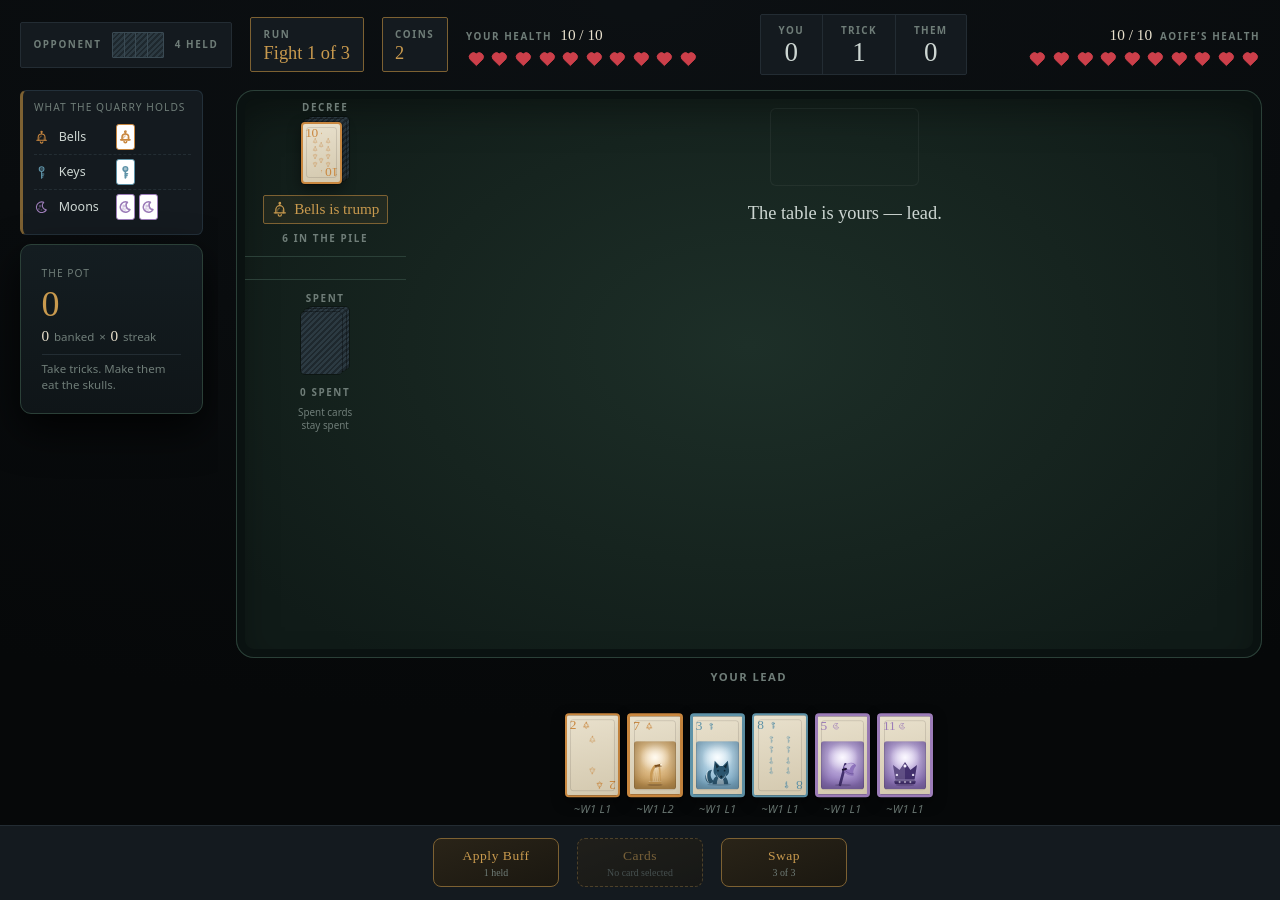
Scenario: WarCouncilRound — buff ride wiring (DLR-153 Task 15) › switches the breakdown to a second, differently-lit legal card on hover (AC13/AC14)
The width and height of the screenshot is (1280, 900).
Step 1. Click the button "Apply Buff 1 held" → x=496, y=863, box [433, 838, 559, 887]
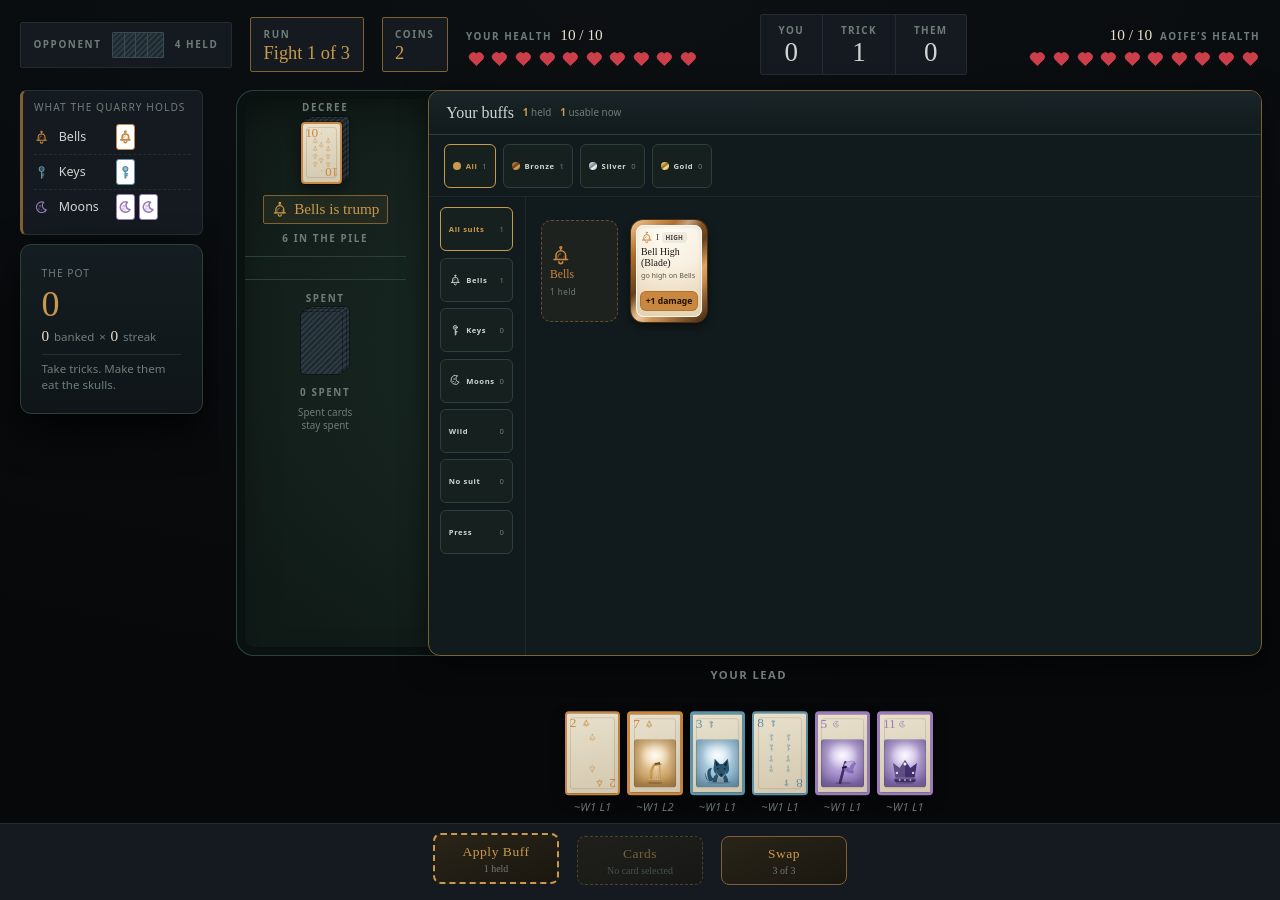
Step 2. Click the button "I HIGH Bell High (Blade) go high on Bells +1 damage" → x=669, y=271, box [631, 220, 707, 322]
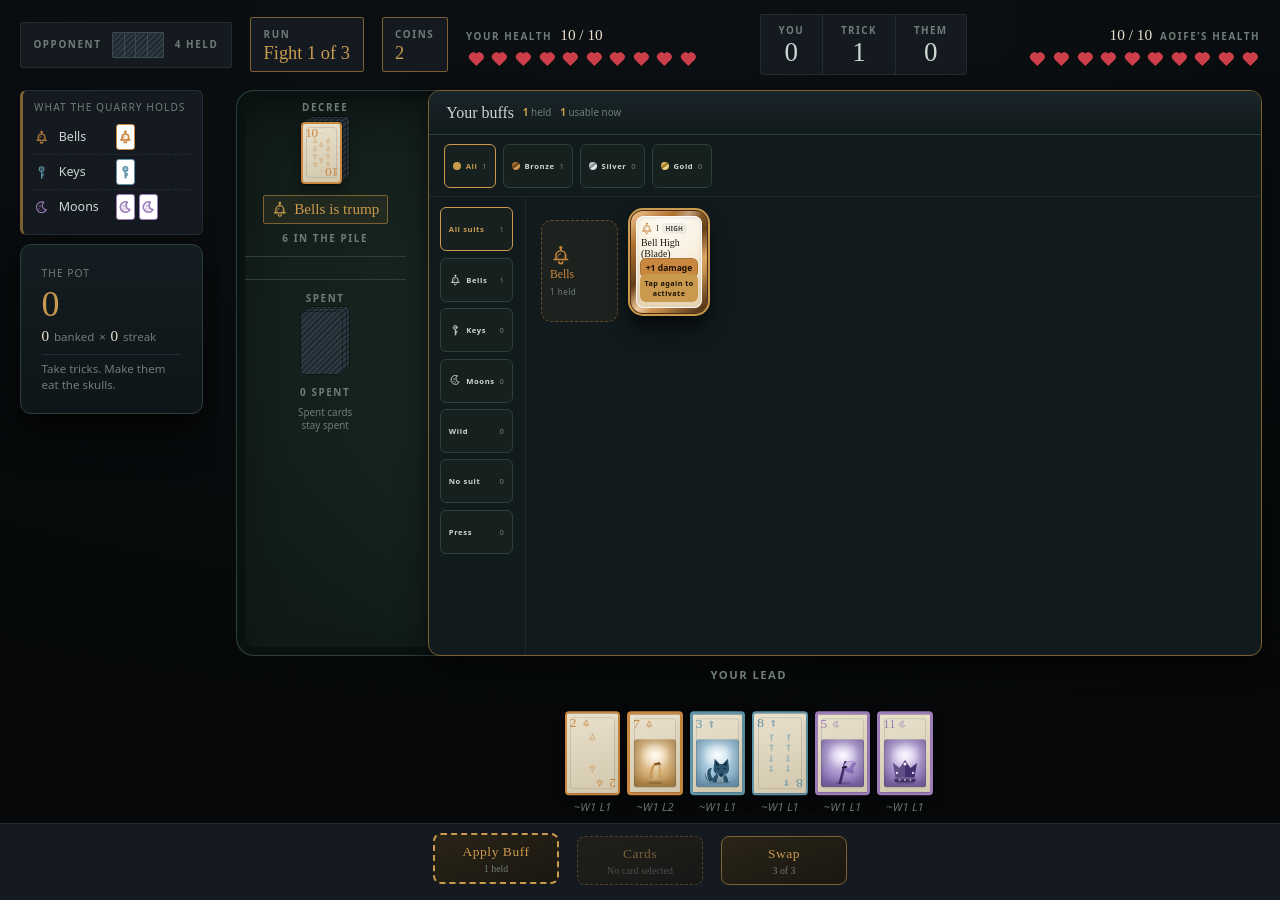
Step 3. Click the button "Bell High" → x=669, y=262, box [631, 211, 707, 313]
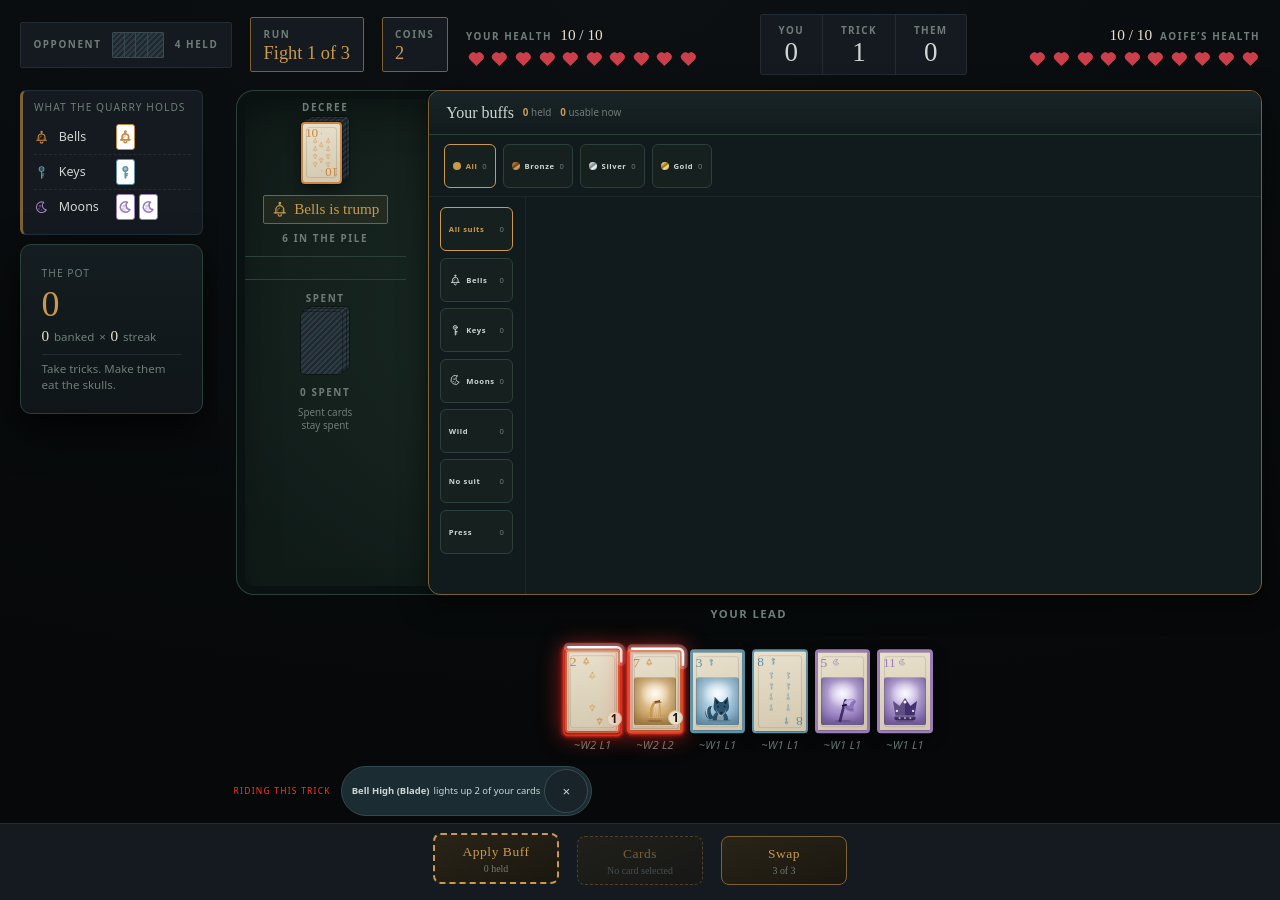
Step 4. Click the button "Apply Buff 0 held" → x=496, y=859, box [433, 833, 559, 884]
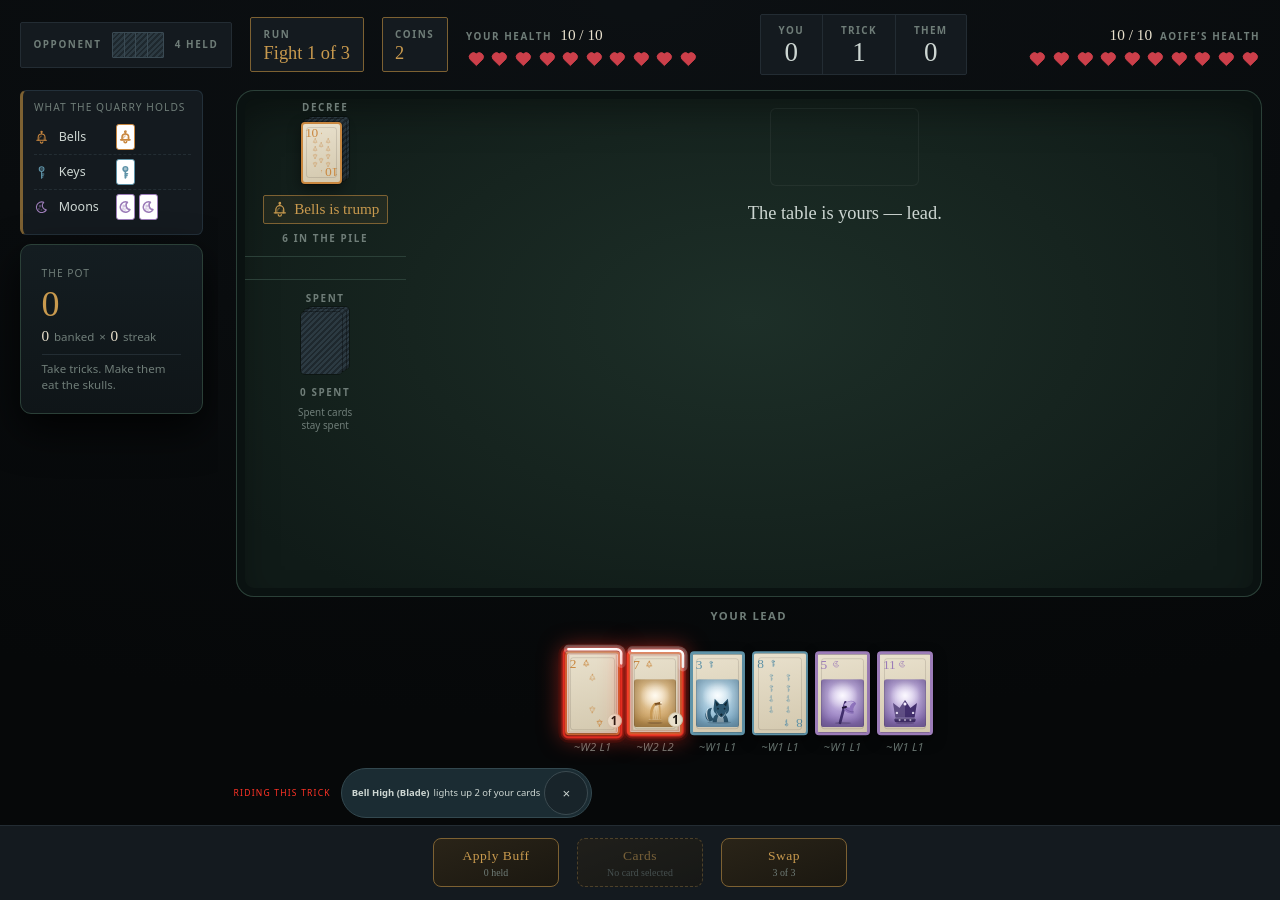
Step 5. Hover over the element named "2 of Bells" → x=593, y=704, box [565, 655, 620, 754]
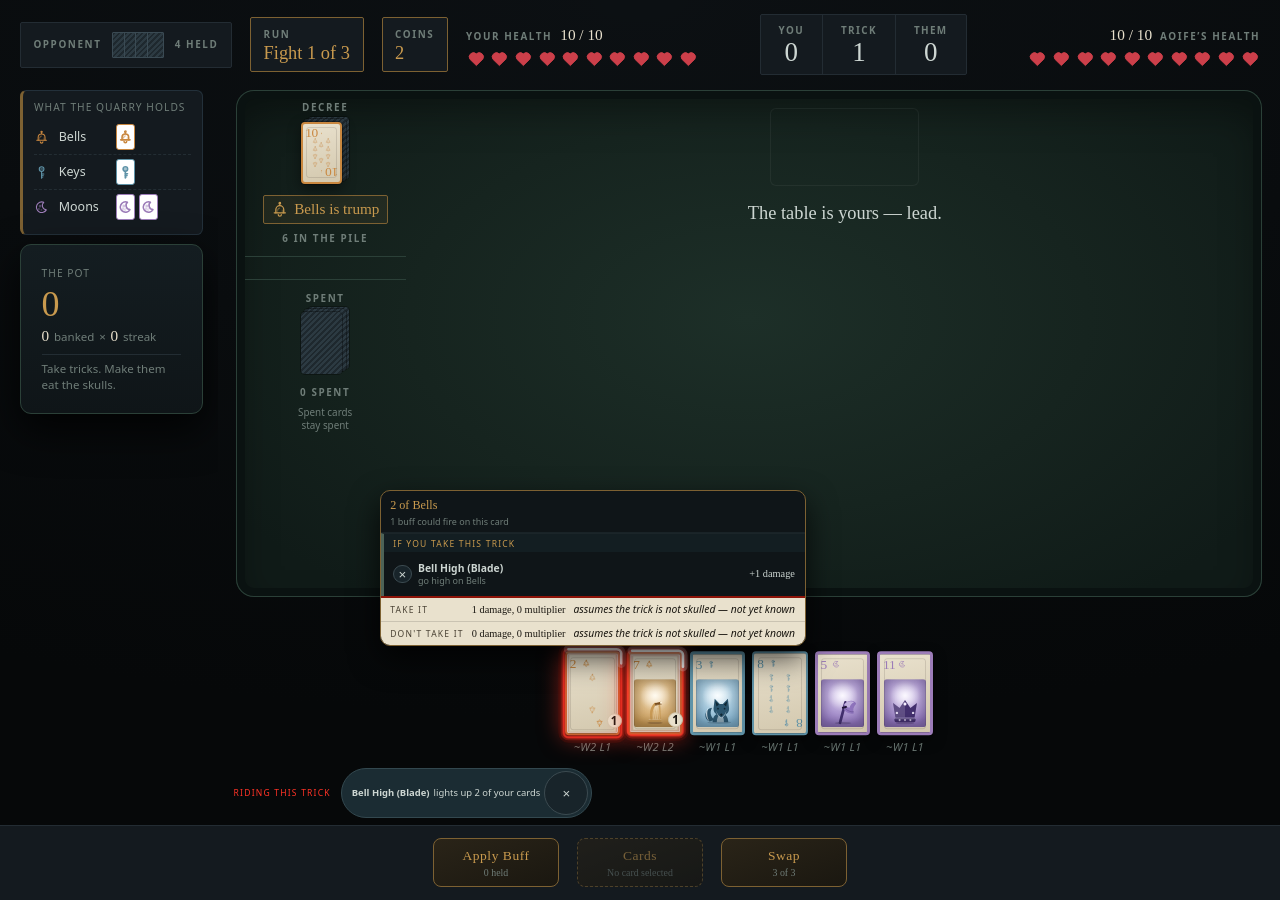
Check: the text "2 of Bells" is shown, box [390, 498, 437, 512]
Step 6. Hover over the element named "7 of Bells" → x=655, y=704, box [627, 655, 683, 754]
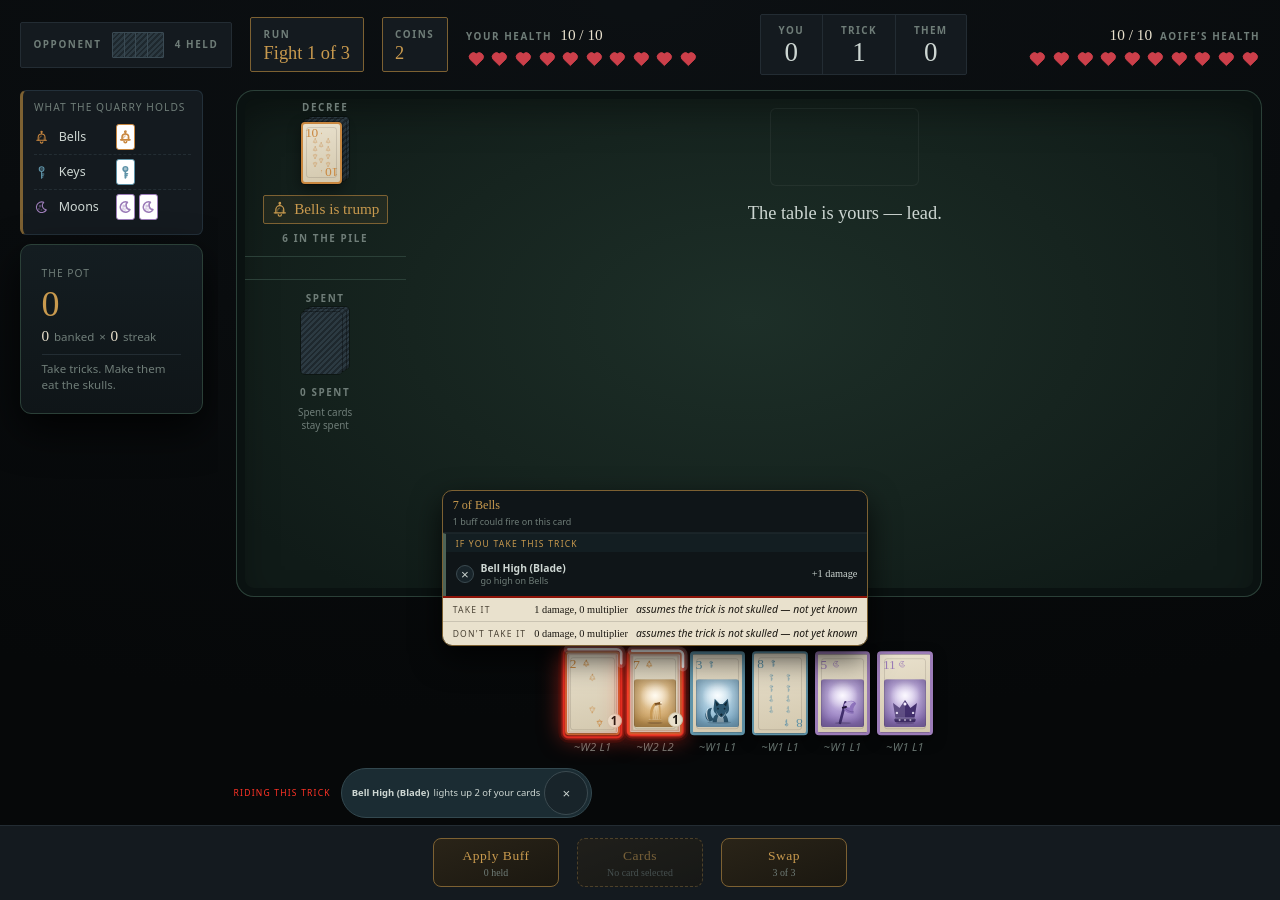
Check: the text "7 of Bells" is shown, box [453, 498, 500, 512]
